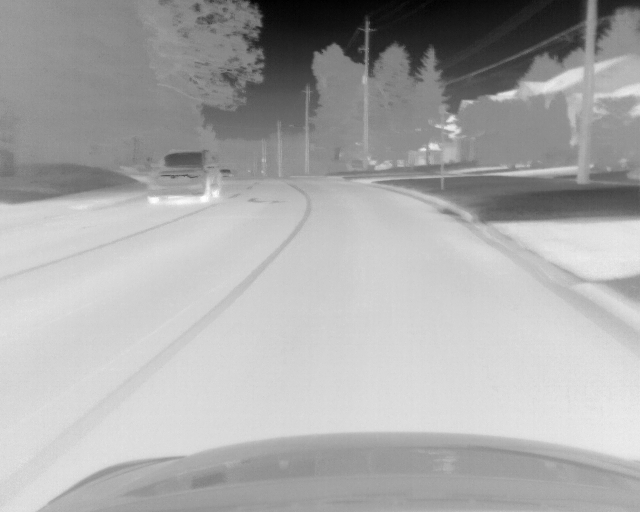car: (147, 149, 223, 205)
